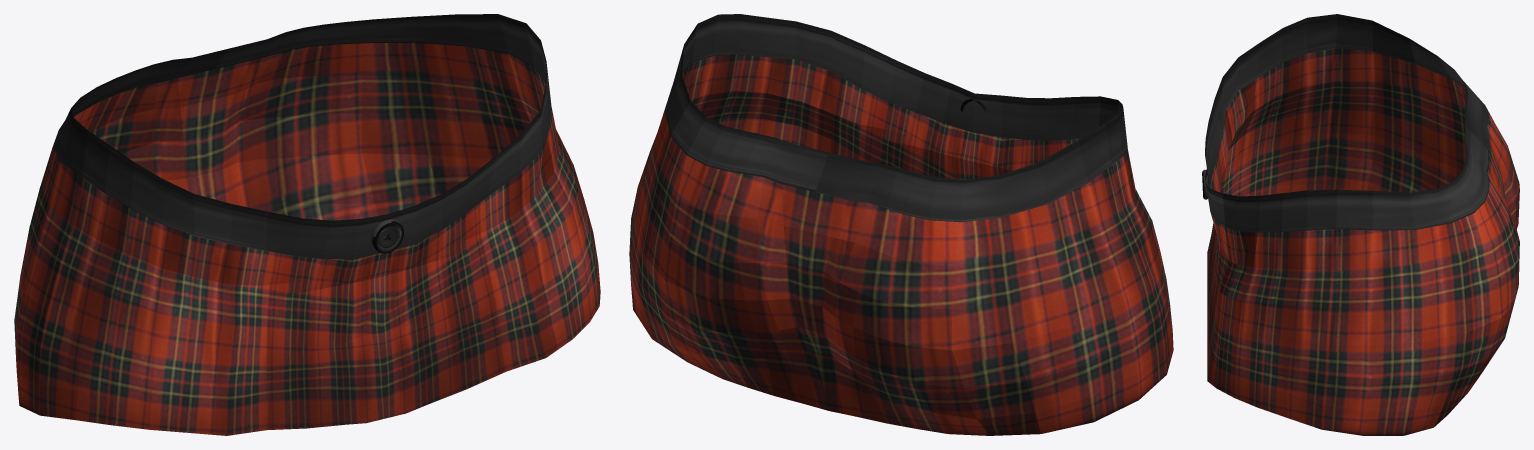
The model's file is garment.glb.
3 renders of one model, left to right at view 1: azimuth 30°, elevation 25°; view 2: azimuth 150°, elevation 25°; view 3: azimuth 270°, elevation 25°, orthographic. The views are drawn at different scales.
Visible parts, largest first — view 1: garment; view 2: garment; view 3: garment.
Boxes of the visible parts, x1,y1,x2,y2 form: garment: (14,14,600,435); garment: (629,14,1173,435); garment: (1202,14,1519,435).
Bounding box in the file's own units: 3.85 × 2.04 × 2.33.
Materials: 1 (1 with a texture image).
